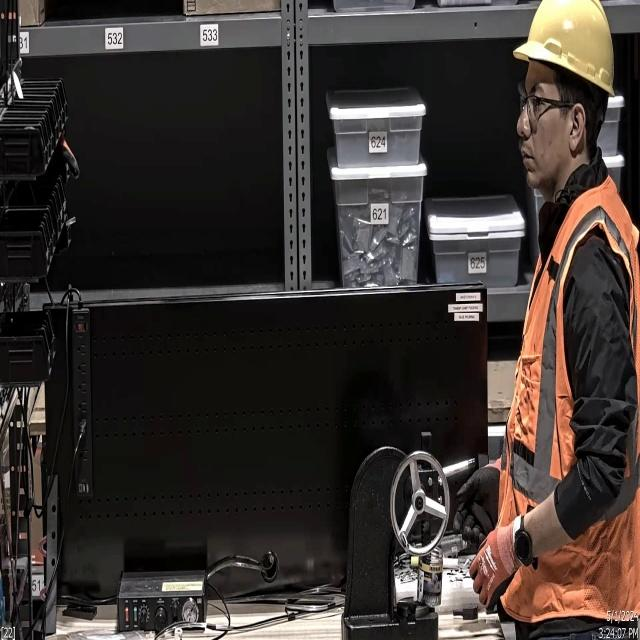construction-gloves: (459, 518, 531, 626), (442, 462, 509, 550)
